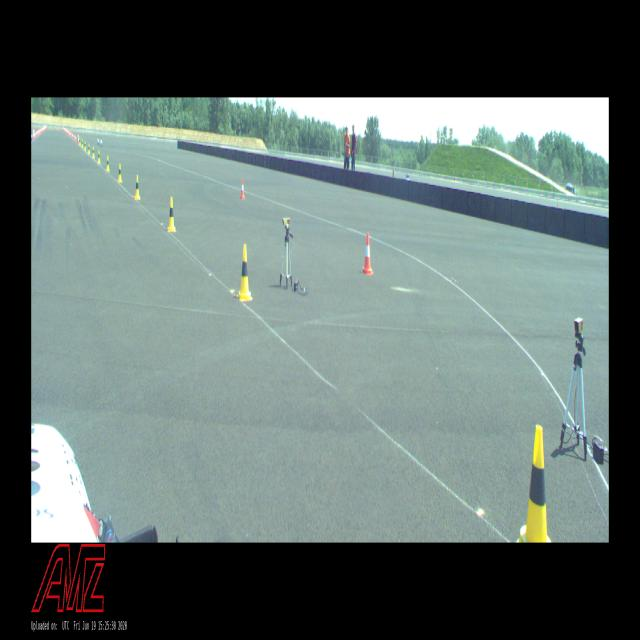orange_cone: (361, 232, 374, 276), (240, 179, 245, 199)
yellow_cone: (516, 425, 554, 542), (236, 244, 253, 301), (166, 197, 176, 232), (134, 175, 141, 200), (118, 164, 122, 182), (106, 155, 110, 172), (97, 150, 101, 164), (92, 146, 95, 158), (81, 138, 84, 148), (88, 144, 90, 154), (84, 140, 86, 150)
